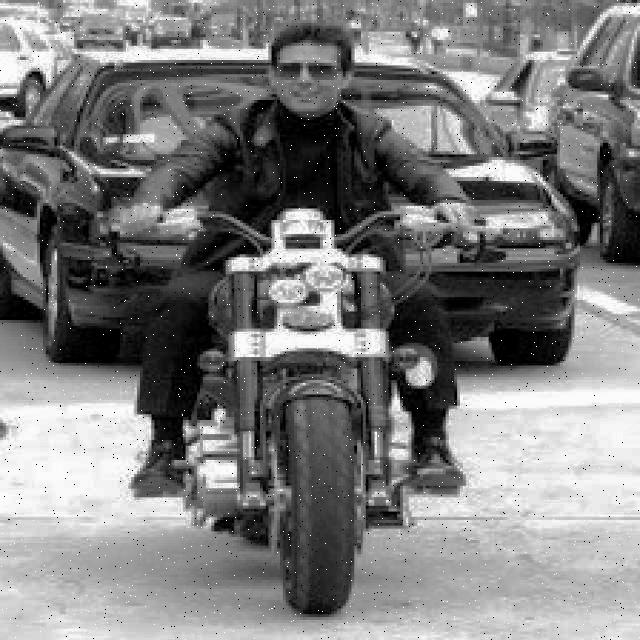Bike: (189, 213, 421, 617)
